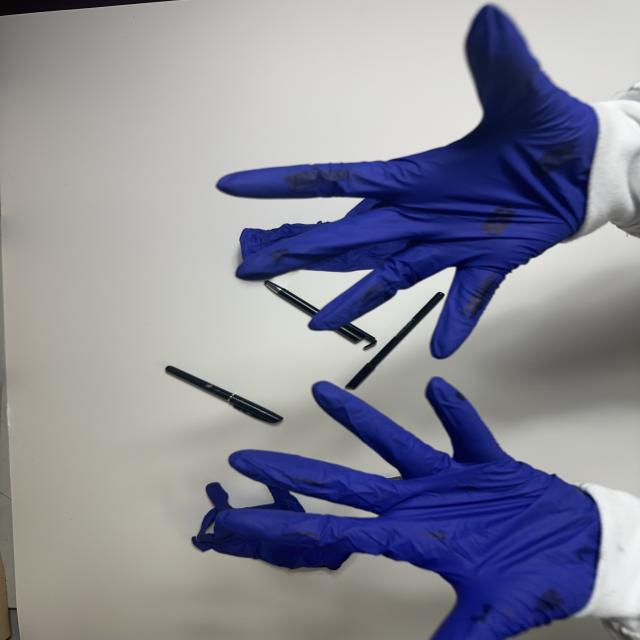gloves_contaminated: (217, 5, 640, 358), (193, 378, 640, 640)
